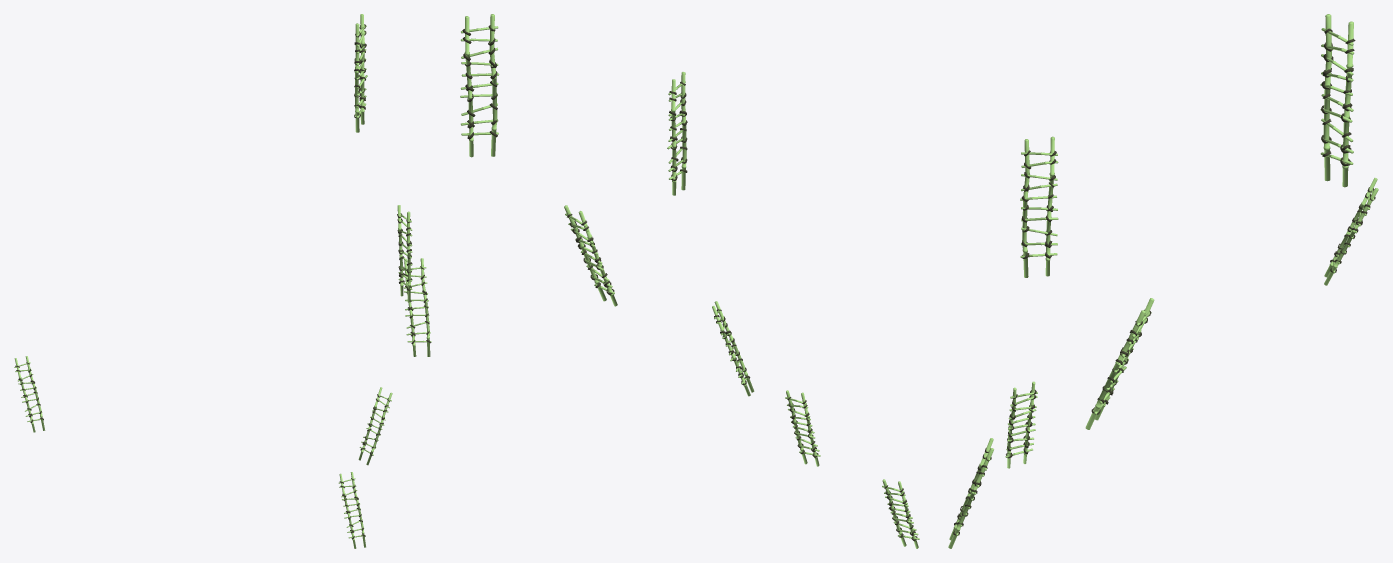
File: échelle bambou.fbx
3 views of the same model, side by side, from view 1: azimuth 30°, elevation 25°; view 2: azimuth 150°, elevation 25°; view 3: azimuth 270°, elevation 25° (orthographic). The views are drawn at different scales.
Parts seen in each view (by area): view 1: MSH_echelle_bambou_01__3_, MSH_echelle_bambou_01_1, MSH_echelle_bambou_01, MSH_echelle_bambou_01__1_, MSH_echelle_bambou_01__2_, MSH_echelle_bambou_01__4_; view 2: MSH_echelle_bambou_01__3_, MSH_echelle_bambou_01, MSH_echelle_bambou_01_1, MSH_echelle_bambou_01__1_, MSH_echelle_bambou_01__2_, MSH_echelle_bambou_01__4_; view 3: MSH_echelle_bambou_01__3_, MSH_echelle_bambou_01, MSH_echelle_bambou_01_1, MSH_echelle_bambou_01__4_, MSH_echelle_bambou_01__2_, MSH_echelle_bambou_01__1_.
Part boxes in pixels (box(x1,y1,x2,y2)): MSH_echelle_bambou_01__3_: box(354, 14, 367, 132); MSH_echelle_bambou_01_1: box(403, 258, 431, 356); MSH_echelle_bambou_01: box(397, 205, 412, 302); MSH_echelle_bambou_01__1_: box(338, 472, 365, 548); MSH_echelle_bambou_01__2_: box(14, 356, 45, 432); MSH_echelle_bambou_01__4_: box(358, 387, 392, 465); MSH_echelle_bambou_01__3_: box(460, 14, 499, 157); MSH_echelle_bambou_01: box(667, 72, 687, 195); MSH_echelle_bambou_01_1: box(564, 205, 617, 306); MSH_echelle_bambou_01__1_: box(785, 390, 820, 466); MSH_echelle_bambou_01__2_: box(882, 479, 919, 548); MSH_echelle_bambou_01__4_: box(712, 301, 754, 396); MSH_echelle_bambou_01__3_: box(1320, 14, 1355, 187); MSH_echelle_bambou_01: box(1020, 136, 1058, 277); MSH_echelle_bambou_01_1: box(1085, 298, 1154, 429); MSH_echelle_bambou_01__4_: box(1005, 381, 1037, 468); MSH_echelle_bambou_01__2_: box(1324, 178, 1378, 285); MSH_echelle_bambou_01__1_: box(948, 438, 993, 548).
Bounding box in the file's own units: 24.42 × 27.39 × 17.19.
